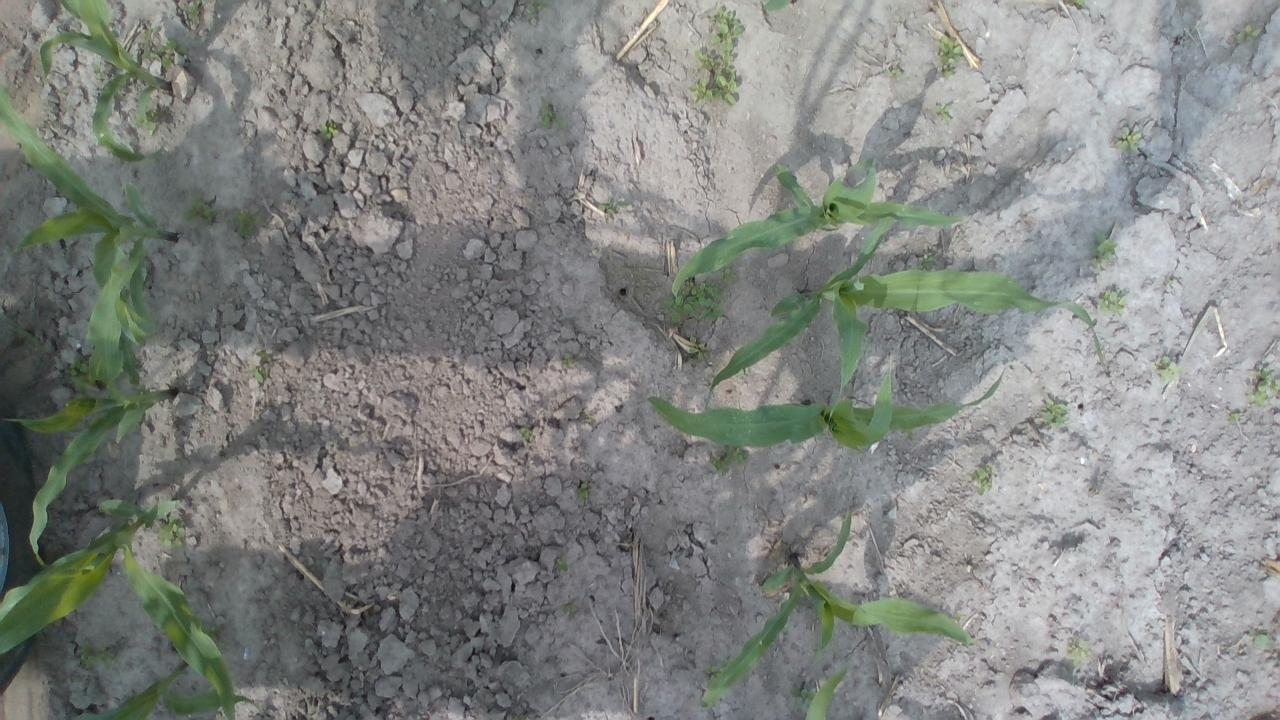Maize: (702, 216, 1106, 453), (692, 492, 982, 720), (1, 87, 182, 389), (9, 496, 248, 718), (664, 162, 969, 296), (3, 362, 186, 572), (645, 364, 1007, 464), (1, 3, 176, 166), (98, 651, 230, 720)
Weeds: (688, 4, 748, 109), (666, 266, 742, 330), (74, 636, 128, 676), (136, 27, 177, 74), (228, 204, 268, 242), (1248, 360, 1276, 414), (183, 190, 220, 228), (160, 507, 186, 548), (1040, 400, 1072, 433), (534, 100, 564, 133), (940, 34, 960, 80), (177, 2, 205, 30), (1234, 23, 1266, 46), (67, 353, 91, 381), (599, 197, 634, 216), (1102, 286, 1124, 316), (976, 464, 996, 495), (796, 686, 818, 714), (1160, 356, 1180, 385), (252, 352, 270, 384), (1253, 629, 1273, 656), (1097, 240, 1117, 264), (1072, 641, 1092, 664), (320, 118, 340, 140), (1118, 126, 1138, 148), (574, 484, 592, 505), (919, 254, 938, 272), (554, 556, 568, 574), (932, 104, 949, 116), (517, 424, 530, 436)
